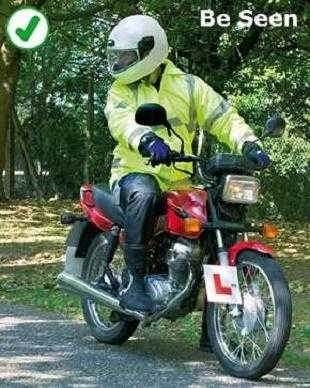motorbike: (56, 104, 293, 379)
